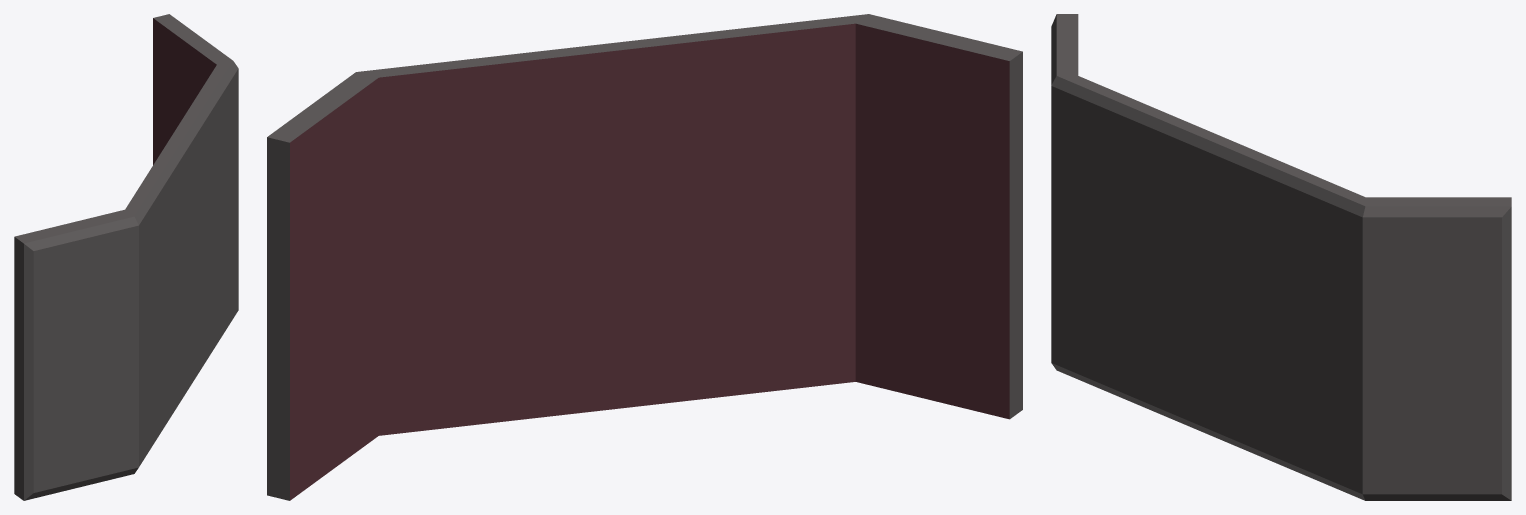
Rendered from scifi-wall-outside-edge.fbx.
3 renders of one model, left to right at view 1: azimuth 30°, elevation 25°; view 2: azimuth 150°, elevation 25°; view 3: azimuth 270°, elevation 25°, orthographic. The views are drawn at different scales.
Visible parts, largest first — view 1: scifi-wall-outside-edge; view 2: scifi-wall-outside-edge; view 3: scifi-wall-outside-edge.
Part boxes in pixels (x1,y1,x2,y2): scifi-wall-outside-edge: (14, 14, 238, 500); scifi-wall-outside-edge: (267, 14, 1022, 500); scifi-wall-outside-edge: (1051, 14, 1511, 500).
Size of the model in its own units: 4.25 by 3 by 4.25.
